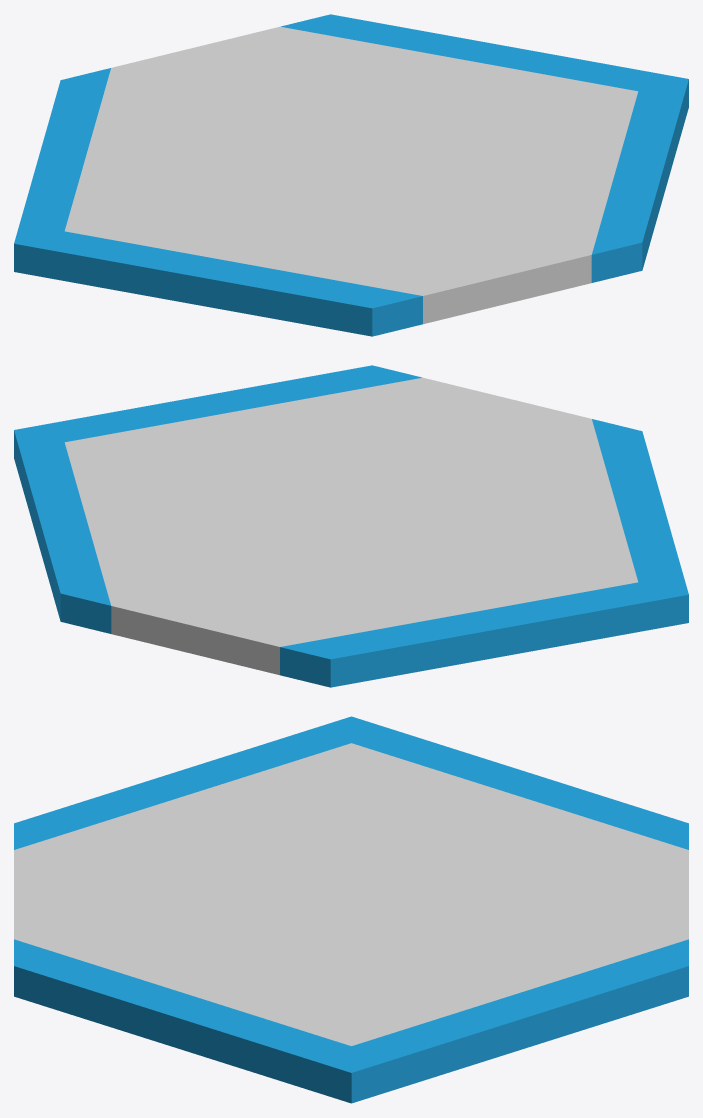
The picture shows the model from 3 angles, top to bottom: view 1: azimuth 30°, elevation 25°; view 2: azimuth 150°, elevation 25°; view 3: azimuth 270°, elevation 25°; orthographic projection. The views are drawn at different scales.
Visible parts, largest first — view 1: Hexagon, SW.001, SE, NE, NW.001; view 2: Hexagon, NW.001, NE, SE, SW.001; view 3: Hexagon, SE, NE, SW.001, NW.001.
Boxes of the visible parts, x1,y1,x2,y2 form: Hexagon: (65, 26, 638, 324); SW.001: (14, 231, 422, 336); SE: (591, 79, 688, 282); NE: (281, 14, 687, 91); NW.001: (14, 68, 110, 243); Hexagon: (64, 377, 637, 675); NW.001: (280, 582, 688, 687); NE: (14, 430, 111, 633); SE: (15, 365, 421, 442); SW.001: (592, 419, 688, 594); Hexagon: (14, 743, 688, 1045); SE: (14, 939, 351, 1103); NE: (351, 939, 688, 1103); SW.001: (14, 716, 351, 849); NW.001: (351, 716, 688, 849).
Size of the model in its own units: 5 by 4 by 0.2.
